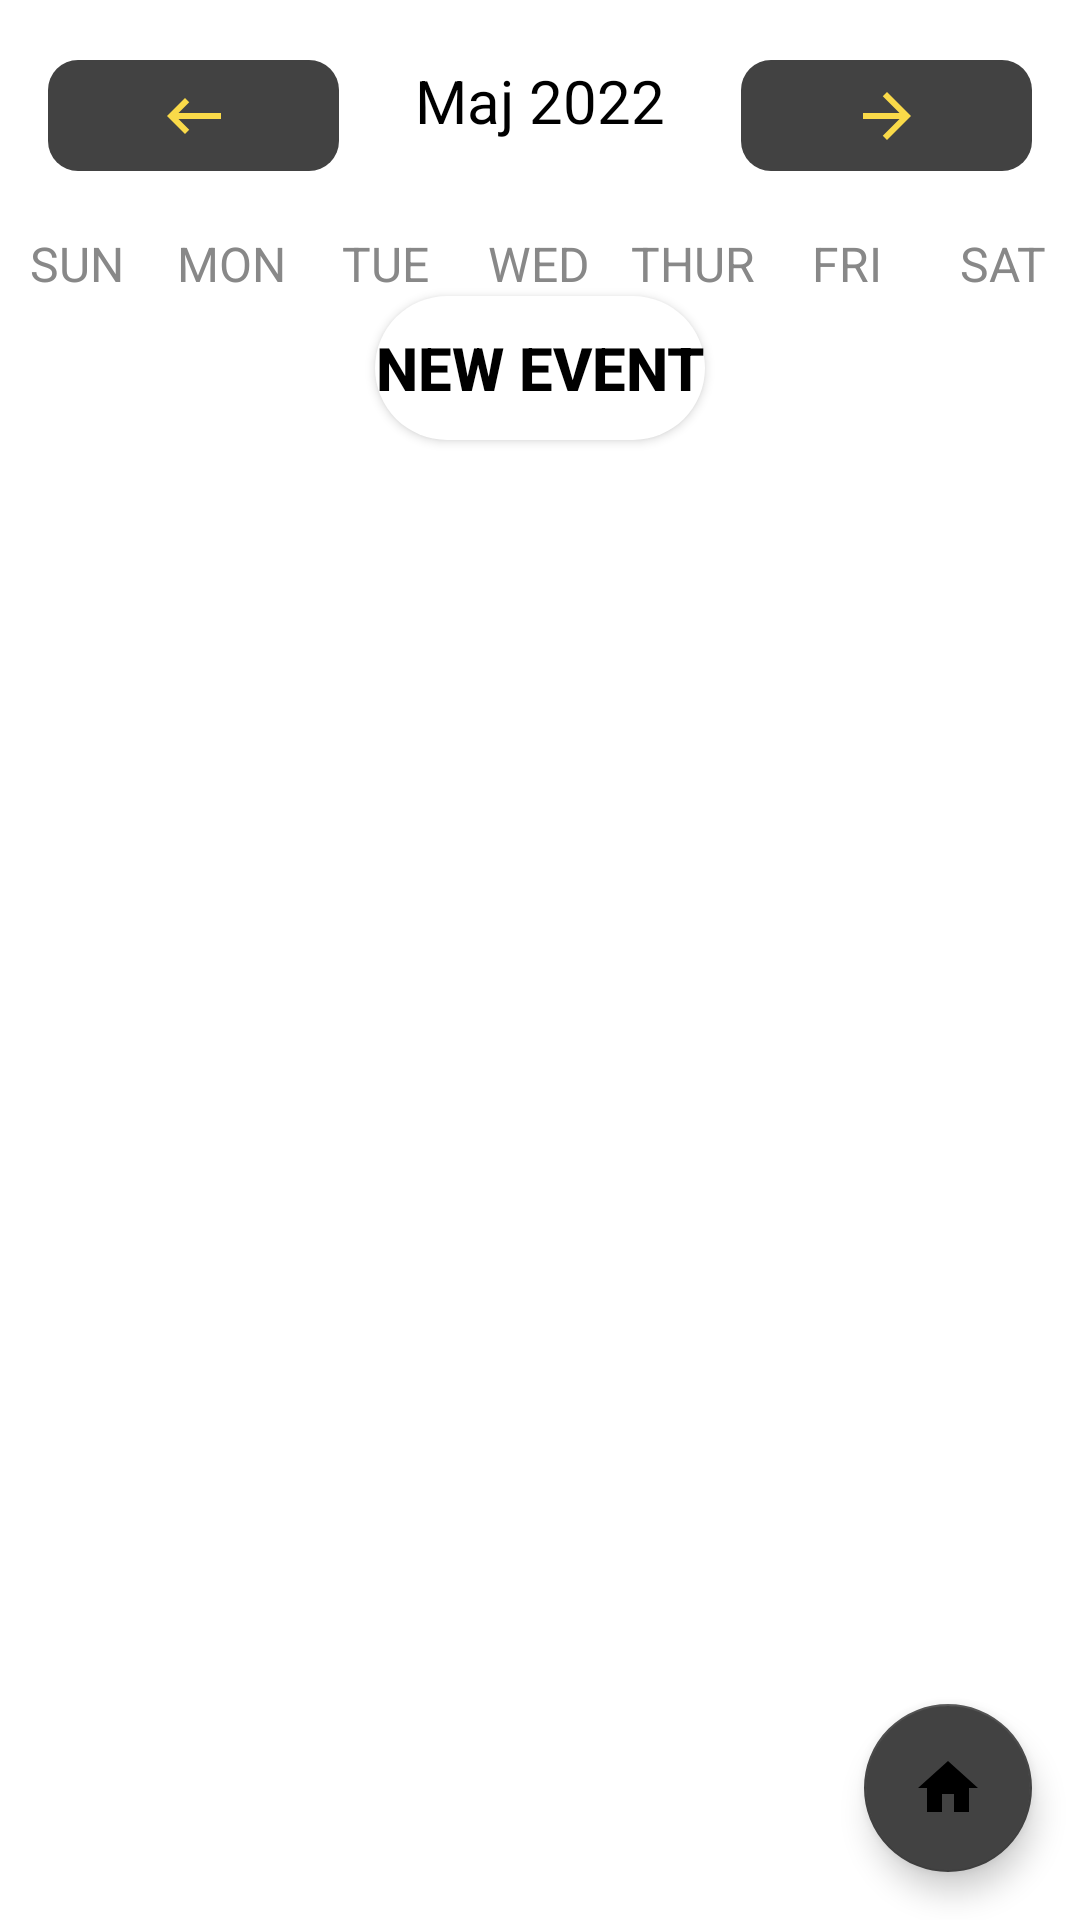

Locate icon controls on the screen. Image size 1080w x 1920h, boxes as (x1, y1, x2, y2).
back: (48, 60, 339, 171)
home: (864, 1704, 1032, 1872)
next: (741, 60, 1032, 171)
